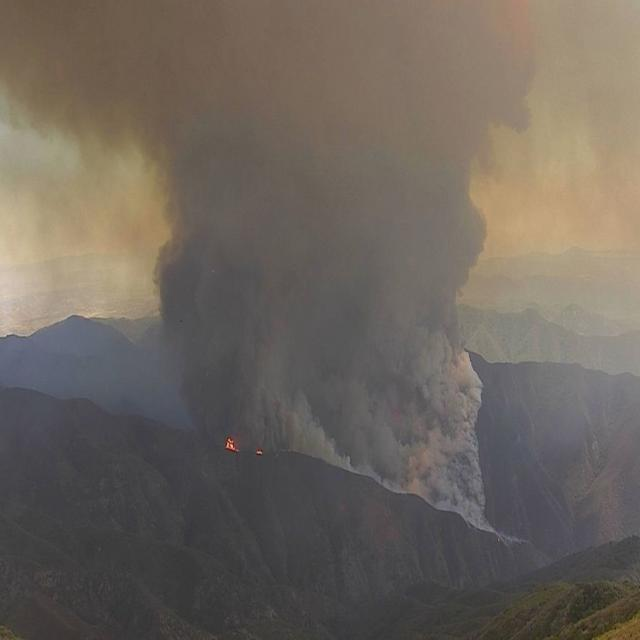Fire: (222, 432, 240, 454), (255, 447, 264, 457)
